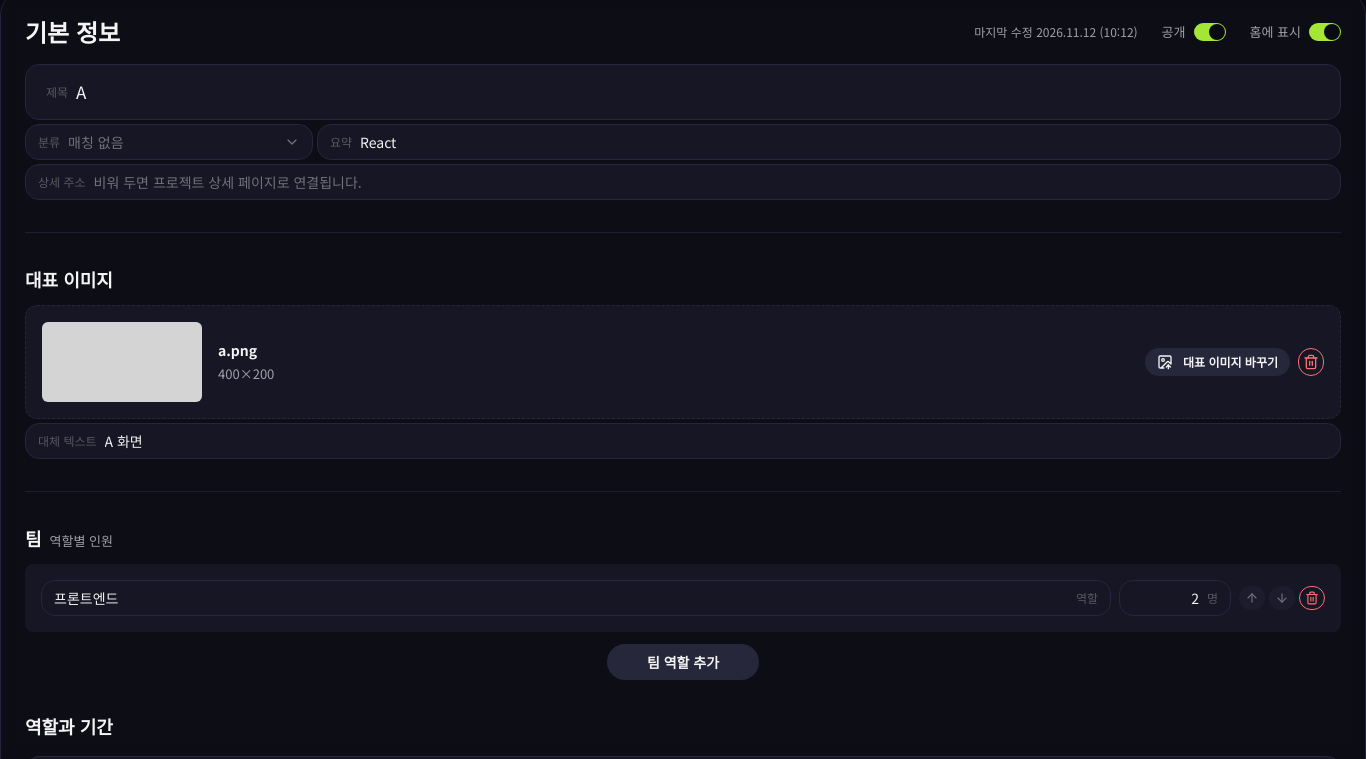
Test: ProjectForm › 저장된 분류가 목록에 없으면 다시 골라야 저장할 수 있다
The width and height of the screenshot is (1366, 759).
Expected: the dropdown labelled "분류" shows "매칭 없음", [25,124,313,160]
# 다른 항목을 고쳐도 분류가 목록에 없어 저장할 수 없다
Type " 19" into the field next to "요약" at (844, 142), box [360,132,1328,152]
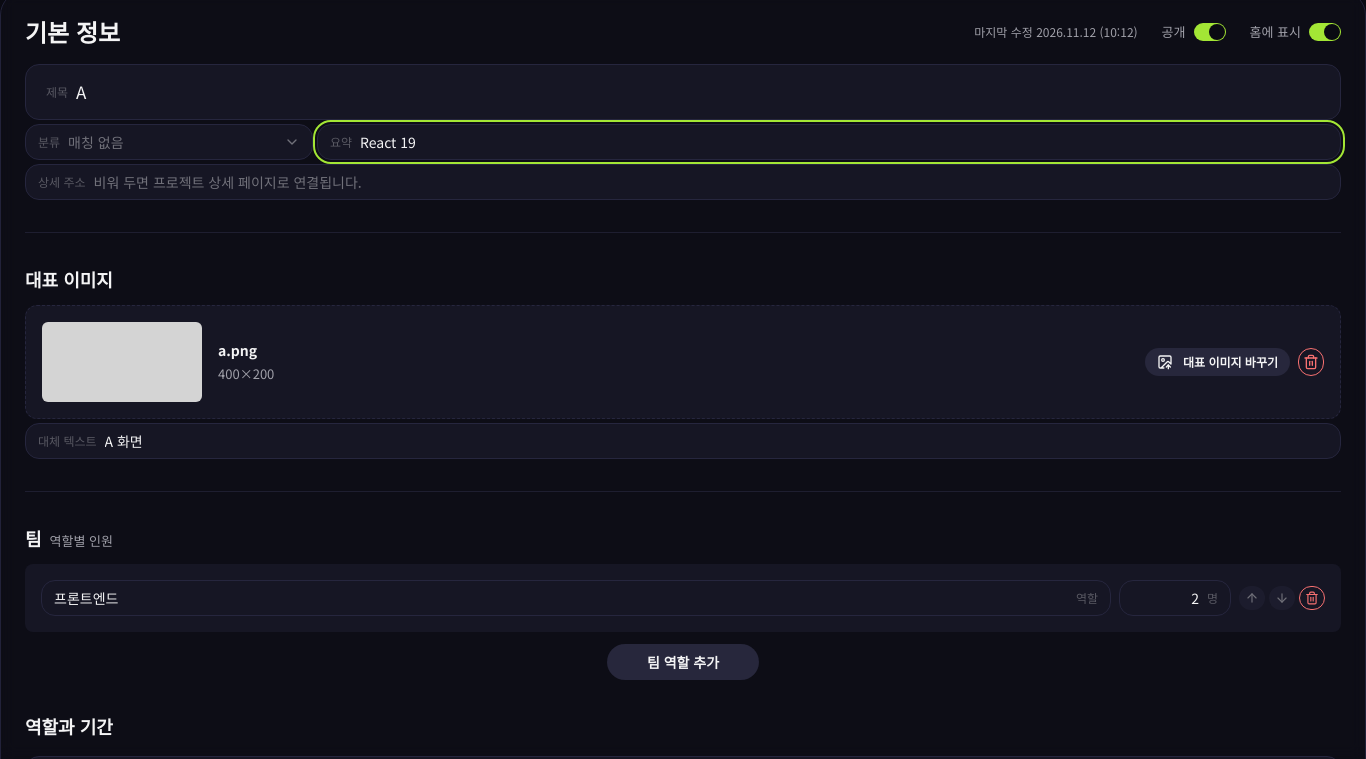
Click the dropdown labelled "분류" at (96, 142), box [25,124,313,160]
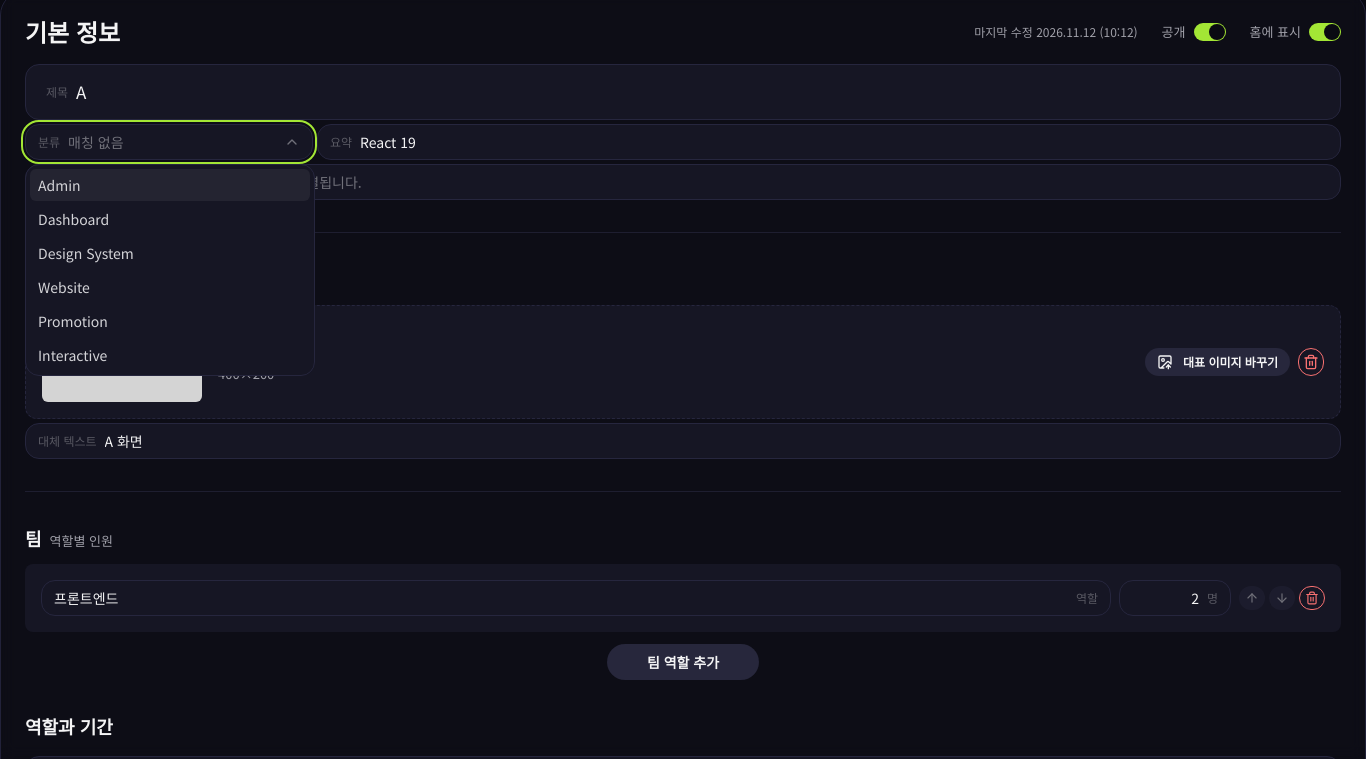
Click the option "Dashboard" at (74, 219), box [38,209,109,229]
(page scrolled)
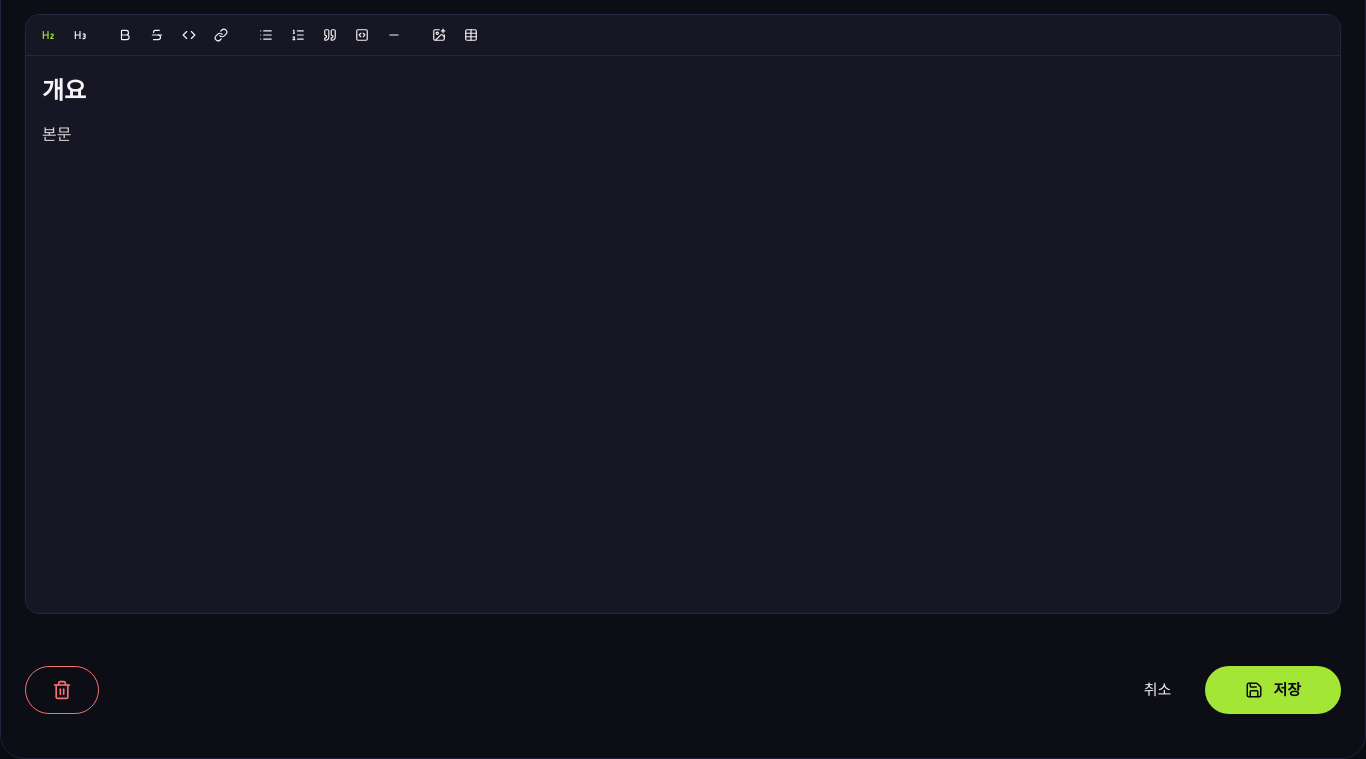
Expected: the button "저장" is enabled, [1205,666,1341,714]
